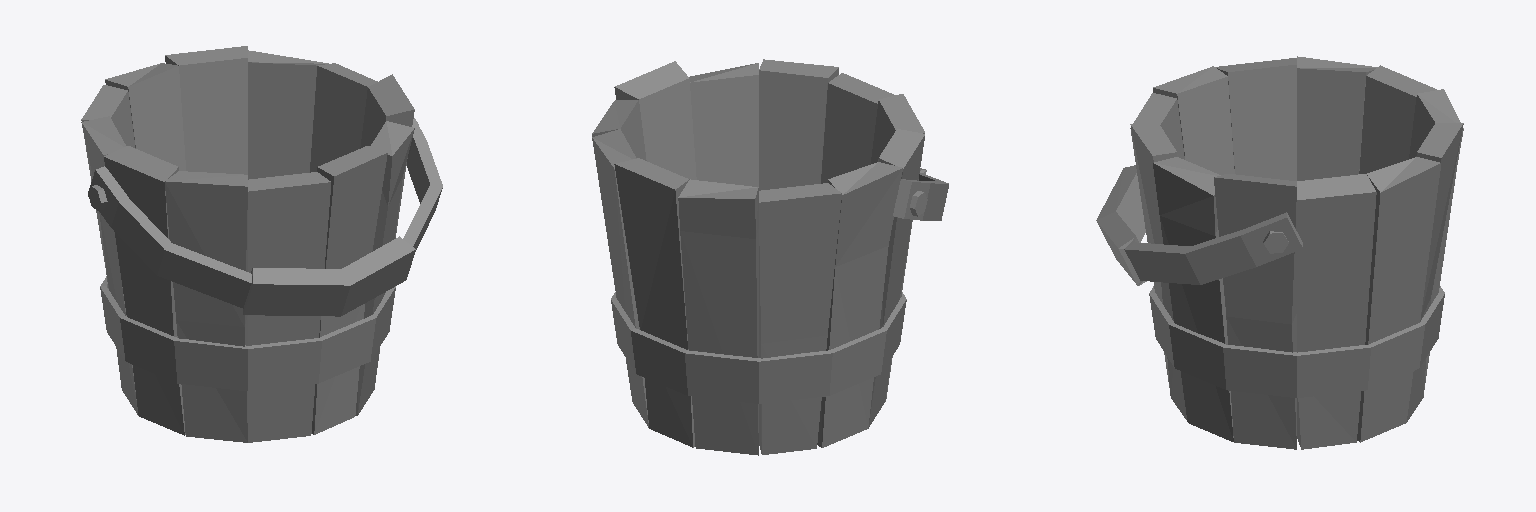
The model's file is bucket.obj.
The picture shows the model from 3 angles: view 1: azimuth 30°, elevation 25°; view 2: azimuth 150°, elevation 25°; view 3: azimuth 270°, elevation 25°; orthographic projection.
Bounding box in the file's own units: 0.5707 × 0.4852 × 0.5773.